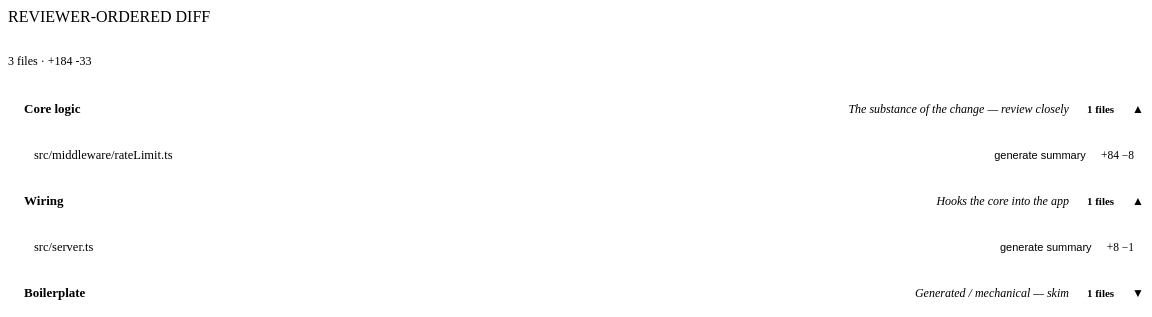
Scenario: SmartDiffViewer › shows the 'generating…' label and disables the button while THIS file's summary is being generated, without affecting other files in the same group
Click the button with aria-label "generate summary for src/middleware/rateLimit.ts". click: (1038, 155)
box: top-left (983, 147), bottom-right (1093, 163)
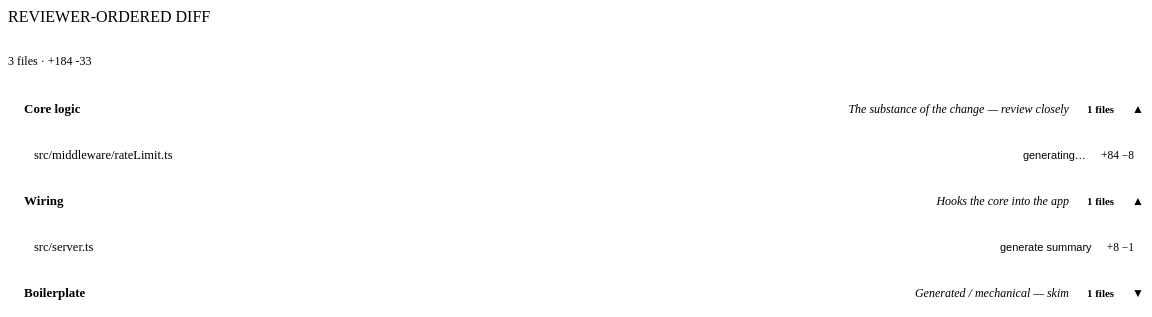
Expected: the button with aria-label "generate summary for src/middleware/rateLimit.ts" is disabled, top-left (1012, 147), bottom-right (1093, 163)
Expected: the button with aria-label "generate summary for src/middleware/rateLimit.ts" shows "generating", top-left (1012, 147), bottom-right (1093, 163)
